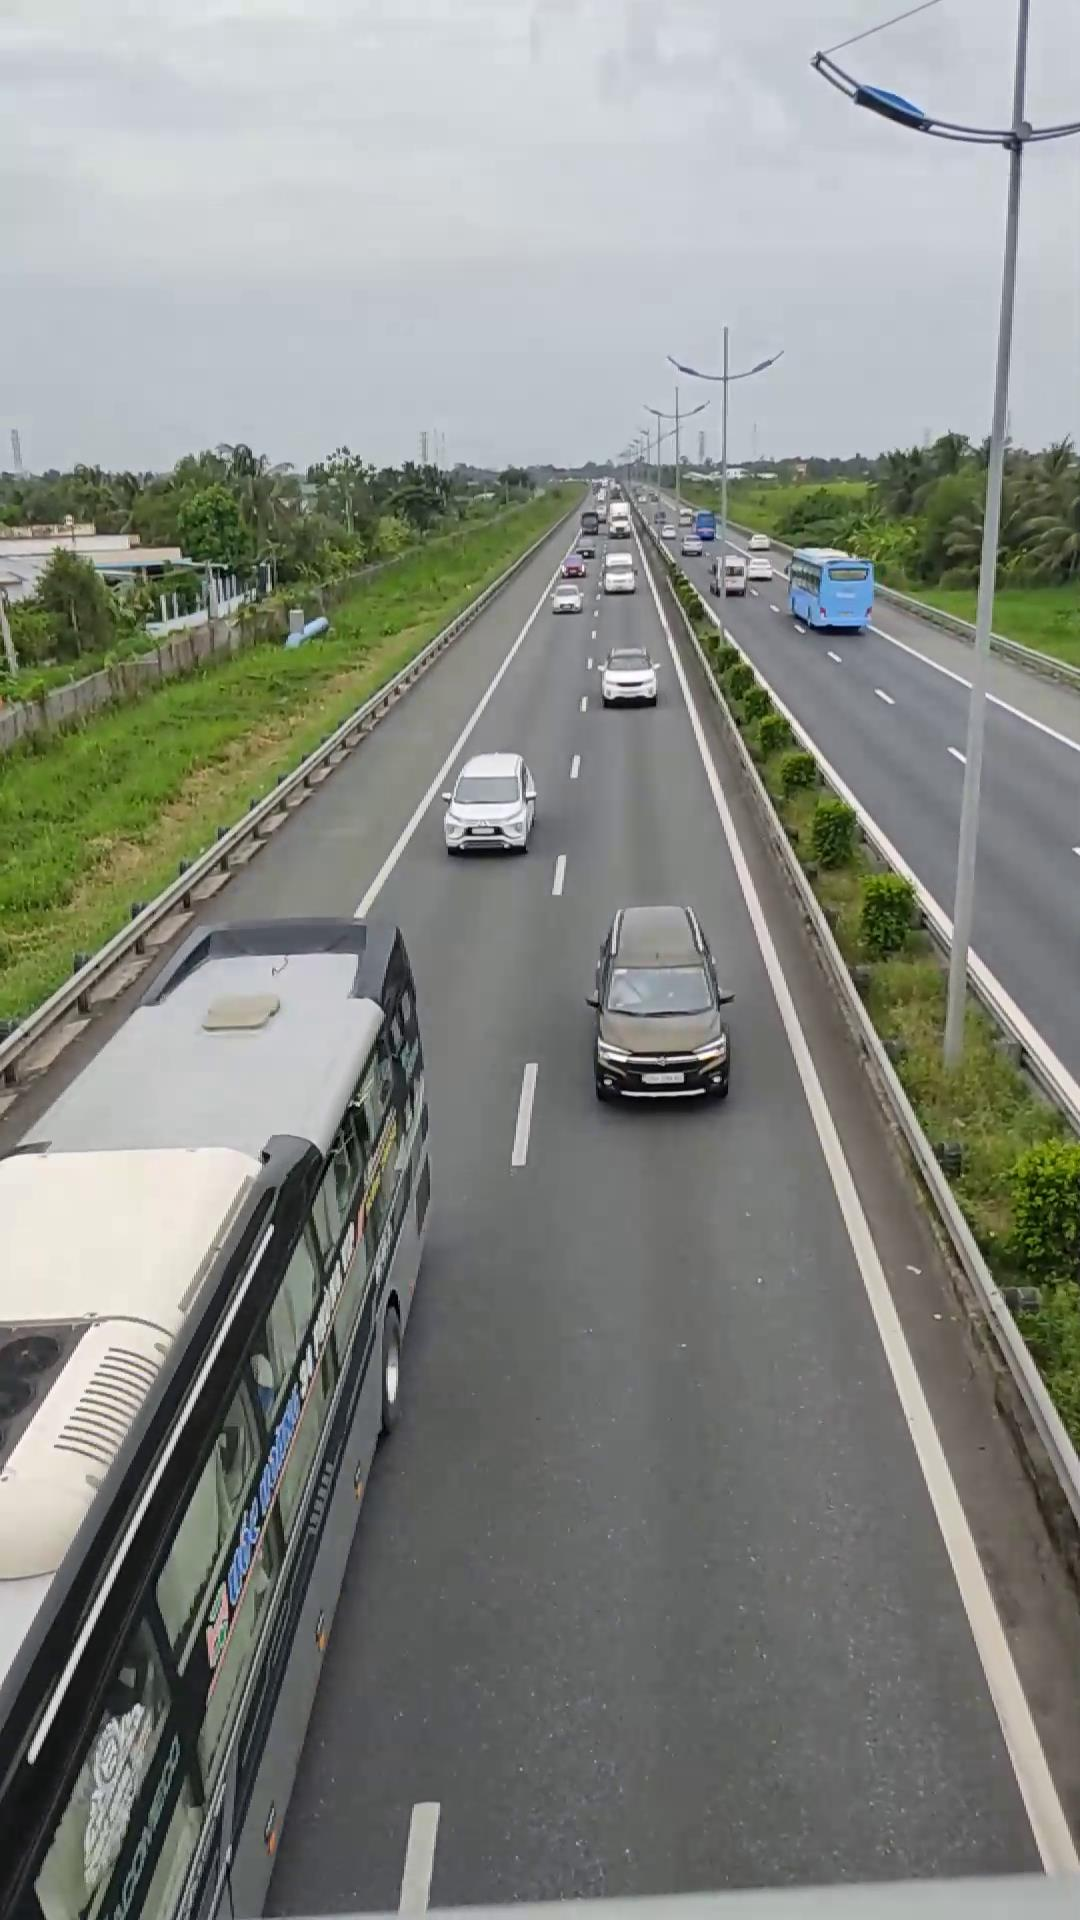bus: (0, 910, 440, 1915)
car: (585, 901, 733, 1102), (440, 752, 535, 855), (589, 647, 661, 705)
